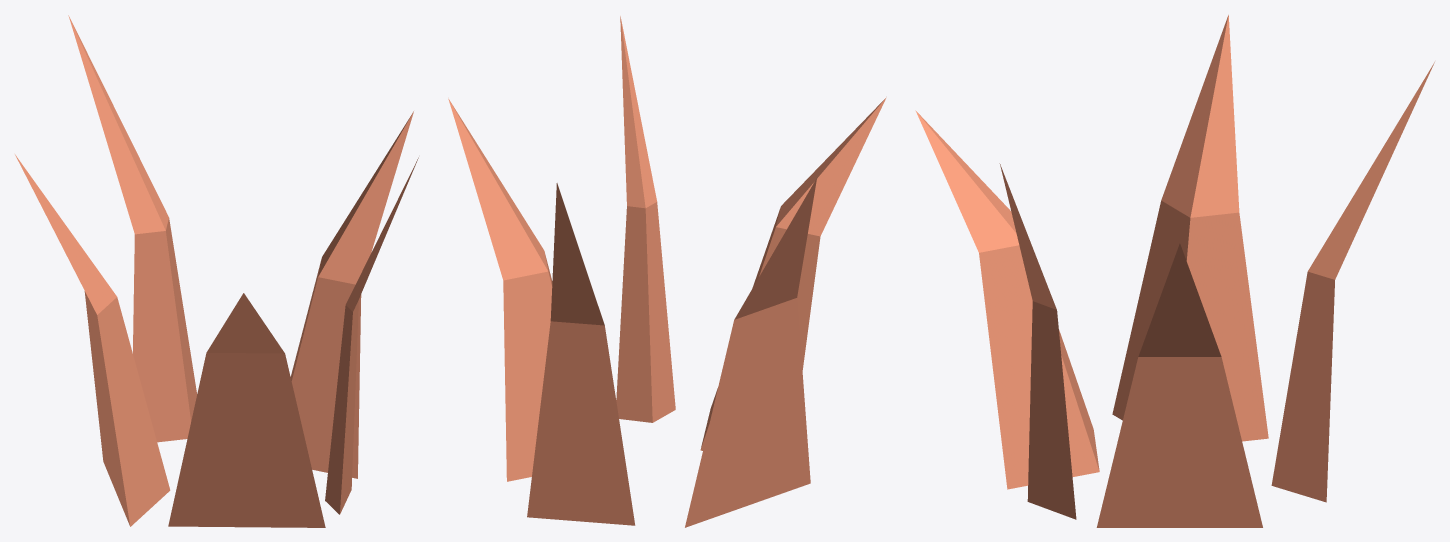
The model's file is grass.fbx.
3 renders of one model, left to right at view 1: azimuth 30°, elevation 25°; view 2: azimuth 150°, elevation 25°; view 3: azimuth 270°, elevation 25°, orthographic. The views are drawn at different scales.
Parts seen in each view (by area): view 1: Cone.004; view 2: Cone.004; view 3: Cone.004.
Boxes of the visible parts, x1,y1,x2,y2 form: Cone.004: (15,15,418,527); Cone.004: (448,16,886,527); Cone.004: (915,15,1434,527).
Bounding box in the file's own units: 0.9993 × 0.9599 × 1.13.
Materials: 1 (1 with a texture image).
